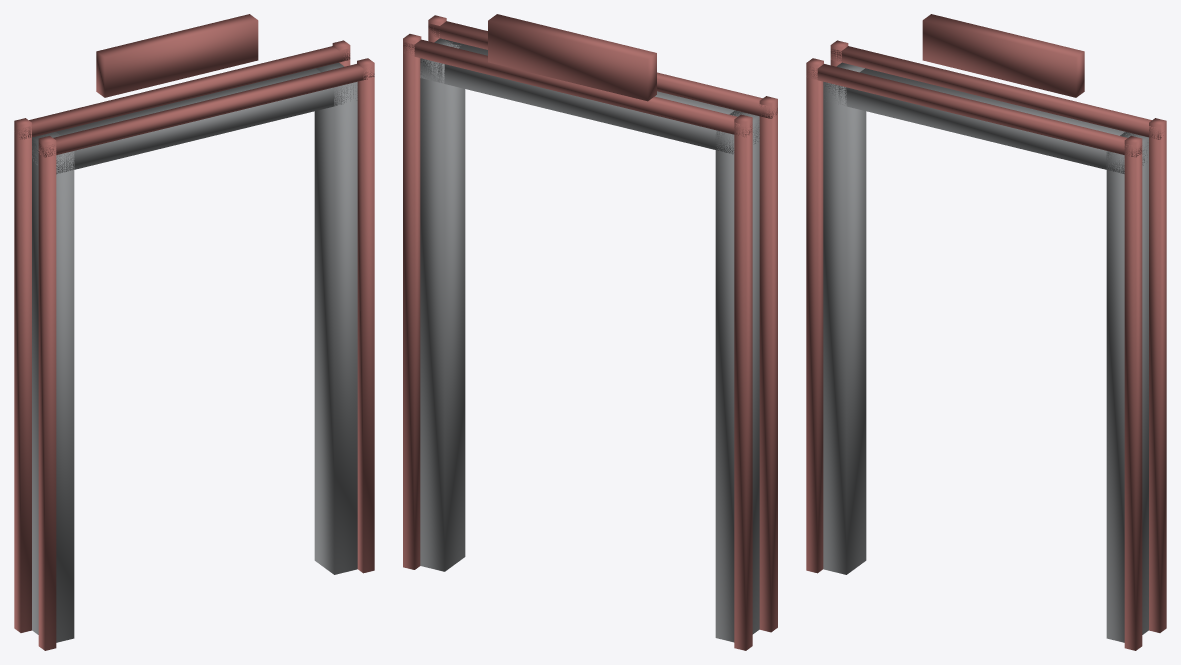
The model's file is doorway_emergency_exit_w122_h210_d16.glb.
3 renders of one model, left to right at view 1: azimuth 30°, elevation 25°; view 2: azimuth 150°, elevation 25°; view 3: azimuth 330°, elevation 25°, orthographic. The views are drawn at different scales.
Parts seen in each view (by area): view 1: world; view 2: world; view 3: world.
Boxes of the visible parts, bbox=[...] form: world: bbox=[14, 14, 374, 650]; world: bbox=[403, 14, 777, 650]; world: bbox=[806, 14, 1166, 650].
Bounding box in the file's own units: 1.55 × 2.47 × 0.2998.
